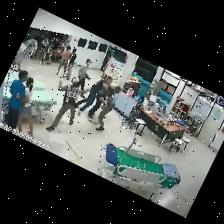person: (46, 77, 81, 131), (77, 76, 111, 116), (6, 70, 27, 129), (96, 83, 115, 130), (17, 77, 32, 136), (88, 89, 106, 119), (54, 46, 70, 77), (77, 59, 90, 89), (64, 49, 75, 80), (35, 38, 47, 60), (51, 39, 59, 61), (57, 40, 63, 53)
